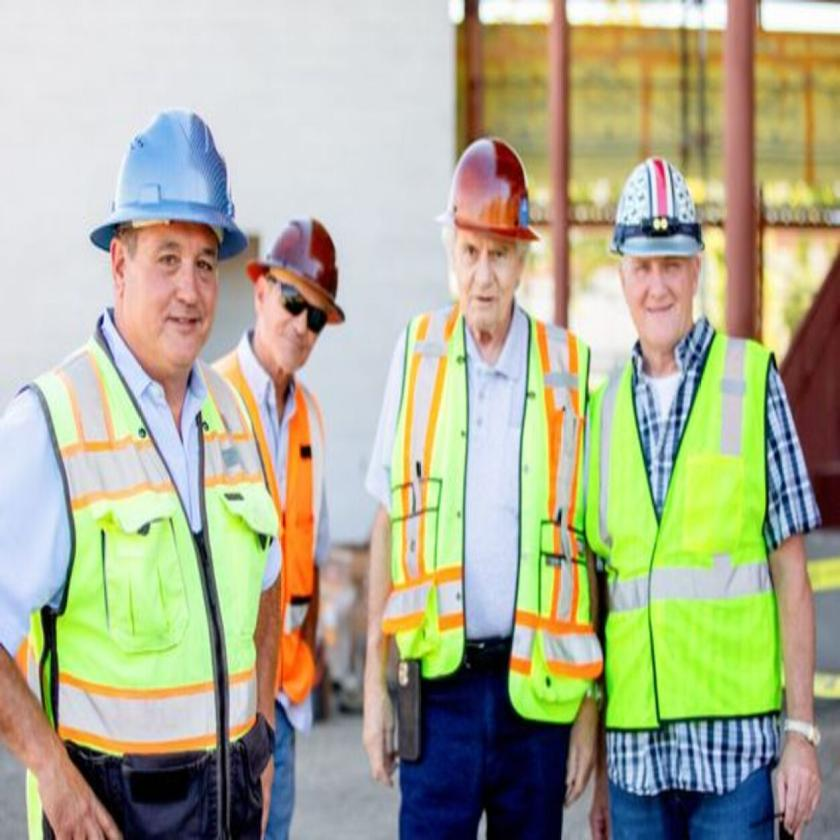Con_casco: (106, 101, 251, 405), (432, 136, 542, 363), (606, 151, 709, 377), (247, 210, 347, 414)
